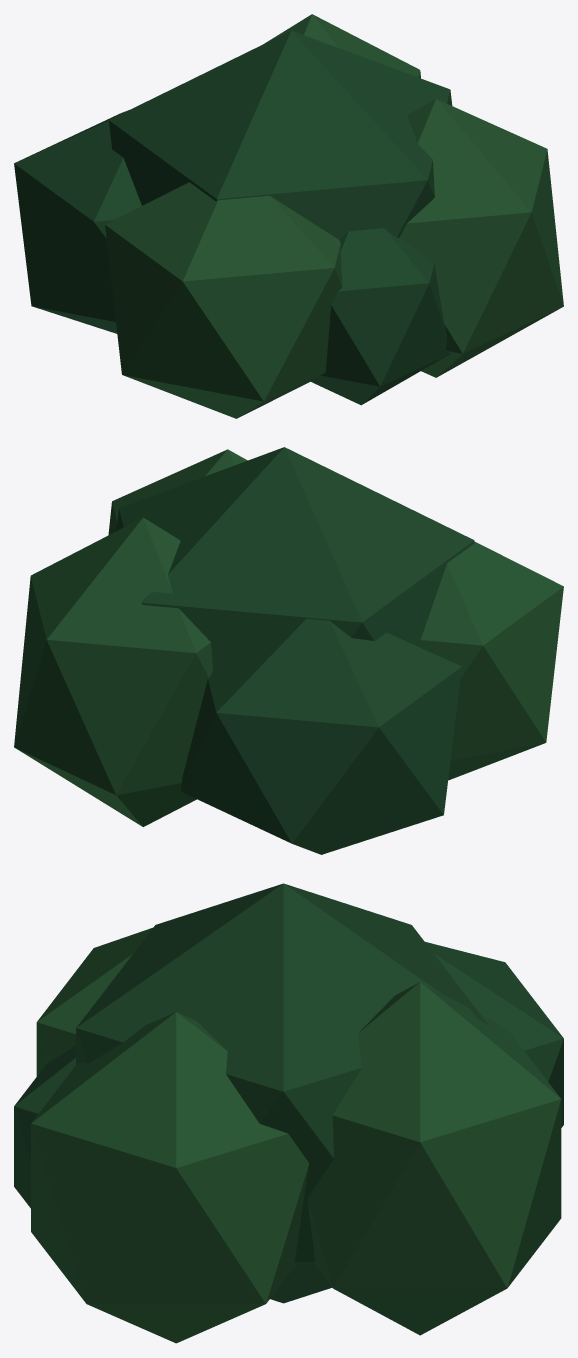
Rendered from thicket.obj.
3 renders of one model, top to bottom at view 1: azimuth 30°, elevation 25°; view 2: azimuth 150°, elevation 25°; view 3: azimuth 270°, elevation 25°, orthographic. The views are drawn at different scales.
Parts seen in each view (by area): view 1: shade_b, part_3, part_4, part_5; view 2: shade_b, part_4, part_3; view 3: shade_b, part_3, part_4, part_5.
Part boxes in pixels (x1=…): shade_b: x1=105, y1=14, x2=563, y2=418; part_3: x1=109, y1=30, x2=452, y2=239; part_4: x1=14, y1=110, x2=141, y2=333; part_5: x1=310, y1=228, x2=450, y2=405; shade_b: x1=14, y1=449, x2=563, y2=826; part_4: x1=181, y1=618, x2=461, y2=854; part_3: x1=116, y1=447, x2=474, y2=671; shade_b: x1=31, y1=927, x2=561, y2=1343; part_3: x1=76, y1=883, x2=490, y2=1303; part_4: x1=425, y1=942, x2=563, y2=1127; part_5: x1=14, y1=1045, x2=75, y2=1208.
Size of the model in its own units: 1.19 by 0.95 by 1.13.
